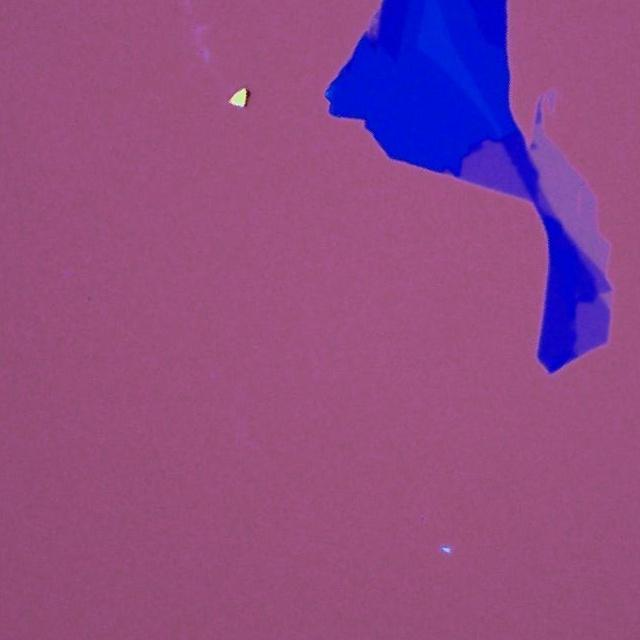monolayer-eWW4: (530, 124, 610, 272)
